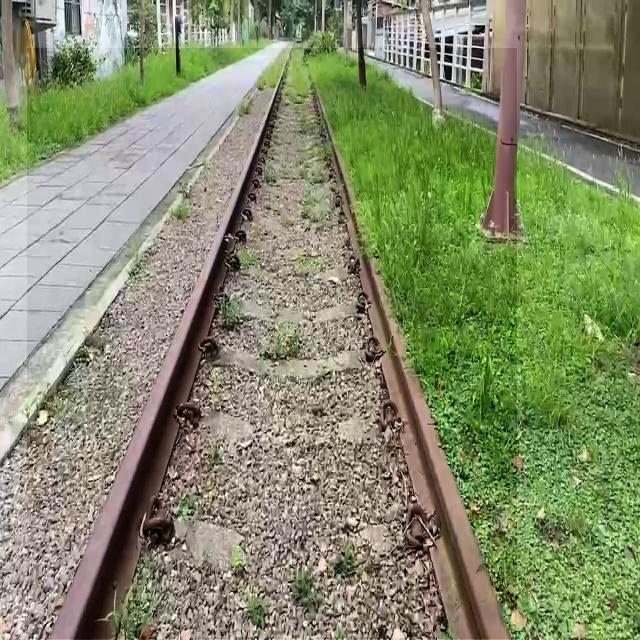rail: (29, 49, 518, 640)
